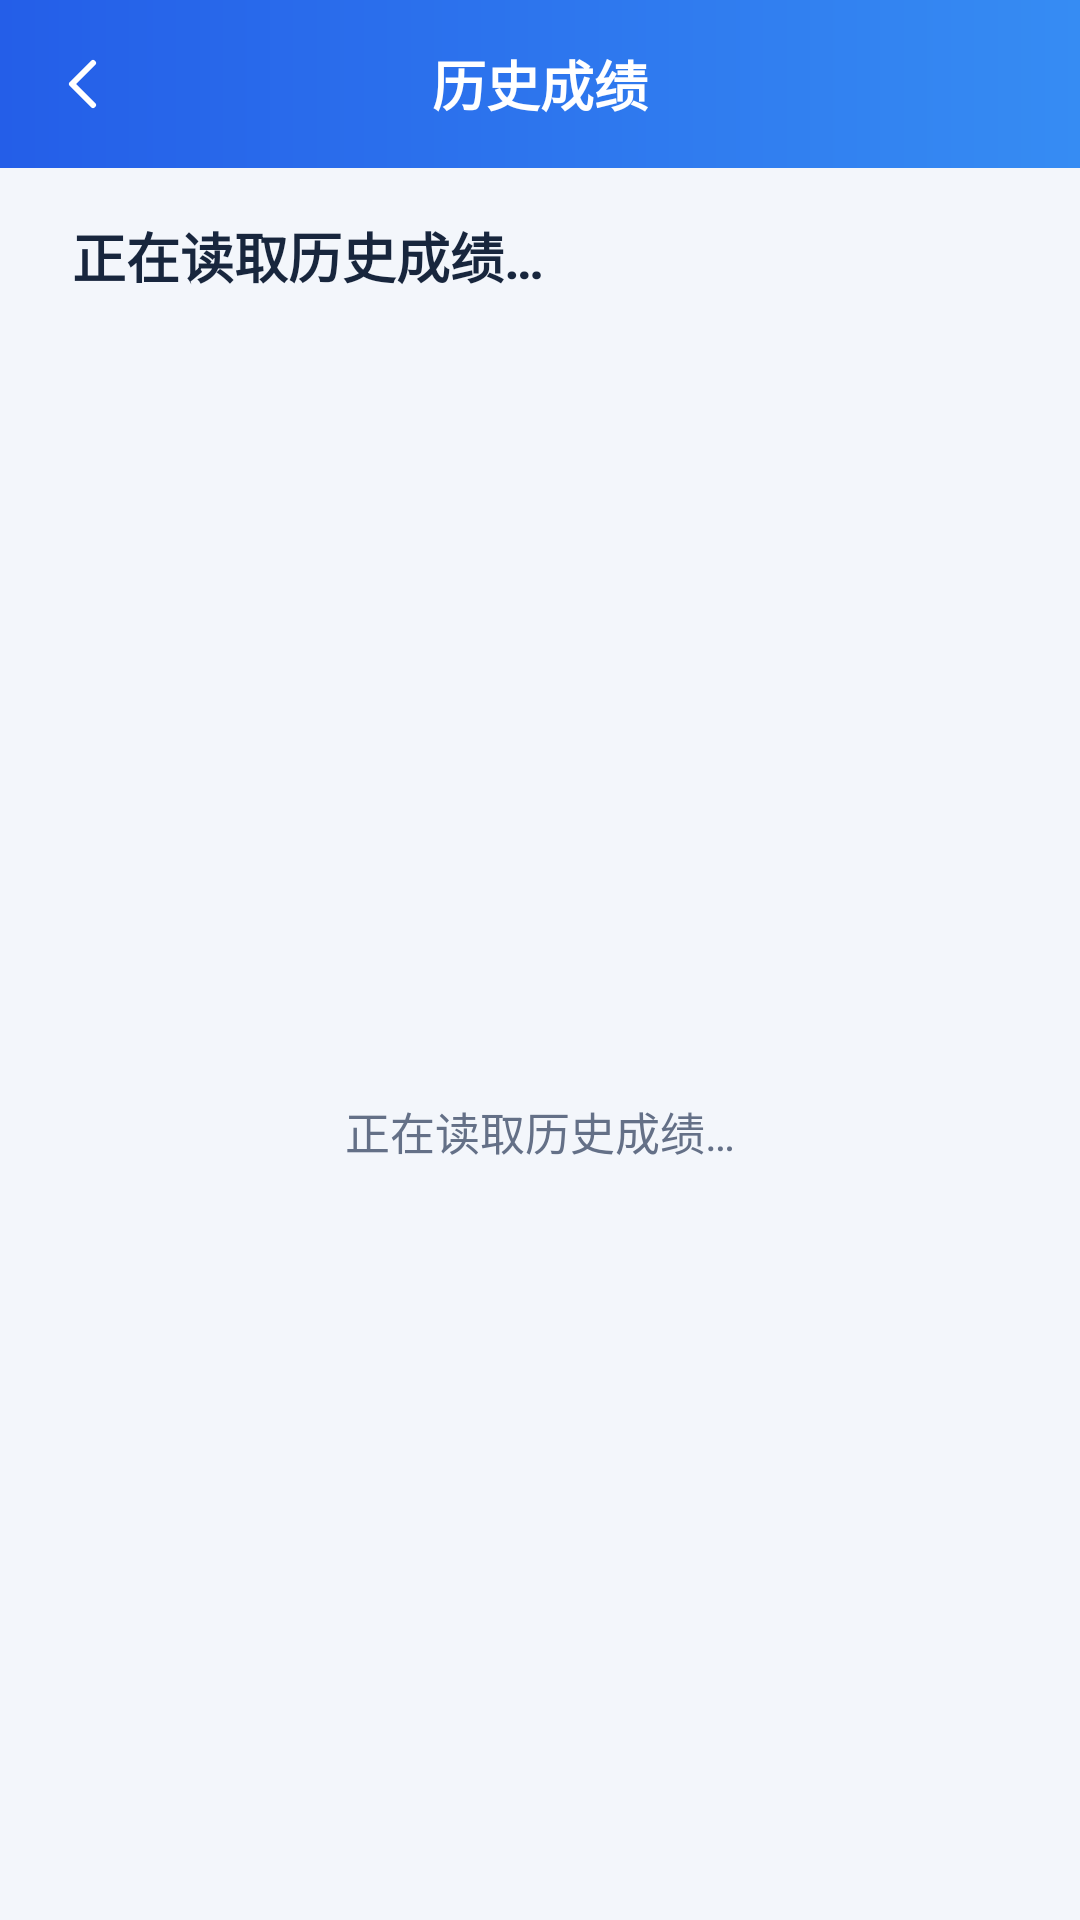

Icons on this 1080 × 1920 Android screen, each with its box as (x1, y1, x2, y2):
返回考前说明: (69, 60, 96, 108)
